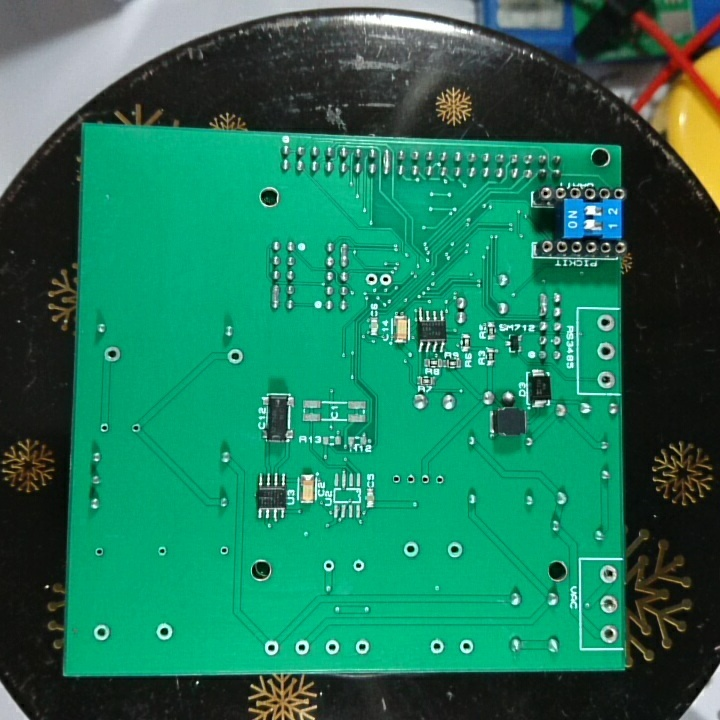F: (153, 620, 176, 646), (597, 562, 619, 589), (594, 310, 616, 336), (291, 636, 313, 661), (599, 592, 619, 617), (444, 539, 465, 562), (401, 538, 421, 562), (596, 340, 617, 362), (101, 343, 122, 365), (596, 369, 616, 391), (353, 636, 373, 658), (598, 622, 618, 643), (224, 347, 245, 367), (261, 636, 280, 658), (456, 636, 476, 656), (324, 636, 342, 658), (92, 623, 110, 644), (428, 637, 445, 656), (362, 270, 379, 289), (216, 541, 232, 561), (90, 543, 108, 560), (379, 270, 394, 290), (154, 543, 171, 560), (350, 558, 366, 575), (321, 558, 336, 575), (403, 473, 419, 486), (129, 420, 141, 437), (433, 473, 447, 487), (389, 472, 402, 486), (96, 422, 110, 435), (419, 472, 431, 487)
P: (268, 282, 283, 312), (336, 241, 350, 269), (536, 289, 549, 319), (381, 146, 392, 178)
